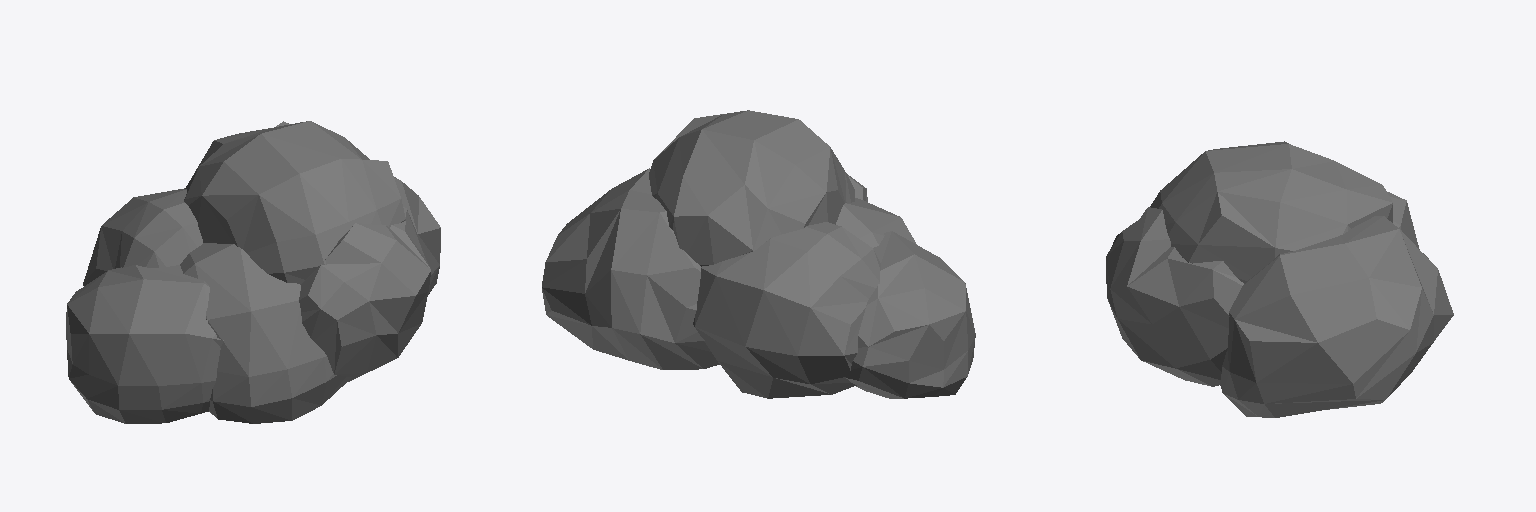
The model's file is FB_bush_Env.obj.
3 renders of one model, left to right at view 1: azimuth 30°, elevation 25°; view 2: azimuth 150°, elevation 25°; view 3: azimuth 270°, elevation 25°, orthographic.
Parts seen in each view (by area): view 1: bush rock_big_thick7, bush rock_big_thick10, rock_big_thick11 bush, bush rock_big_thick9, bush rock_big_thick8, bush rock_big_thick6; view 2: bush rock_big_thick8, bush rock_big_thick6, bush rock_big_thick7, bush rock_big_thick10, rock_big_thick11 bush; view 3: bush rock_big_thick6, bush rock_big_thick7, bush rock_big_thick9, bush rock_big_thick8.
Boxes of the visible parts, <box> form: bush rock_big_thick7: <box>184,121,405,284</box>; bush rock_big_thick10: <box>66,265,223,423</box>; rock_big_thick11 bush: <box>180,243,351,423</box>; bush rock_big_thick9: <box>299,207,430,381</box>; bush rock_big_thick8: <box>83,188,202,285</box>; bush rock_big_thick6: <box>276,121,440,294</box>; bush rock_big_thick8: <box>693,222,880,398</box>; bush rock_big_thick6: <box>542,168,719,369</box>; bush rock_big_thick7: <box>649,110,854,266</box>; bush rock_big_thick10: <box>846,231,975,398</box>; rock_big_thick11 bush: <box>836,198,916,247</box>; bush rock_big_thick6: <box>1220,216,1453,417</box>; bush rock_big_thick7: <box>1150,141,1392,282</box>; bush rock_big_thick9: <box>1106,207,1243,386</box>; bush rock_big_thick8: <box>1387,192,1419,249</box>.
Bounding box in the file's own units: 610 × 369 × 499.